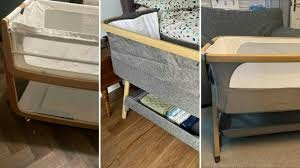crib: (102, 8, 200, 153), (0, 0, 98, 133), (201, 36, 300, 162)
